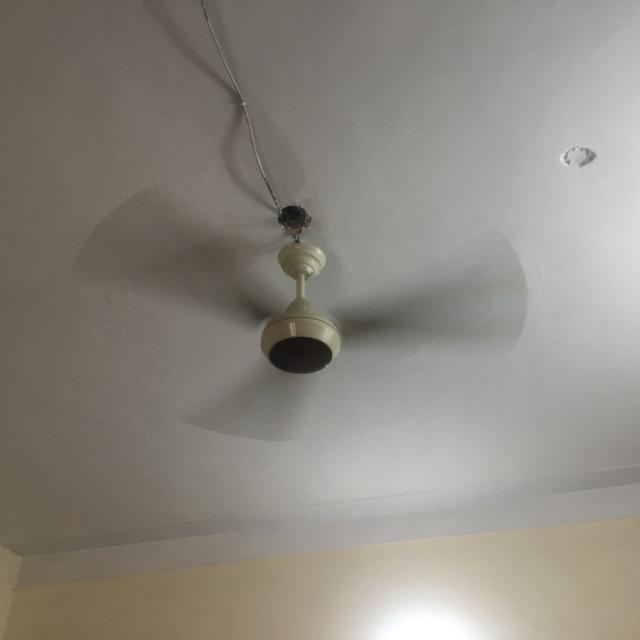on: (63, 179, 536, 454)
